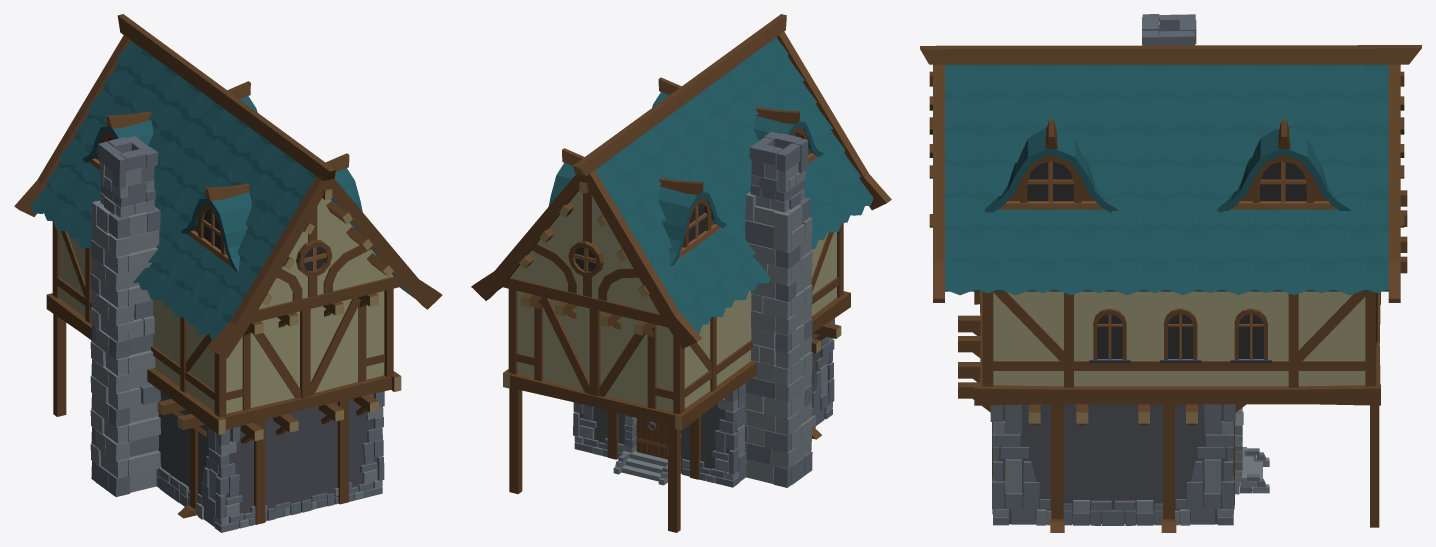
Rendered from House_2.gltf.
3 views of the same model, side by side, from view 1: azimuth 30°, elevation 25°; view 2: azimuth 150°, elevation 25°; view 3: azimuth 270°, elevation 25° (orthographic). The views are drawn at different scales.
Parts seen in each view (by area): view 1: House_2; view 2: House_2; view 3: House_2.
Part boxes in pixels (<box>): House_2: <box>14,14,442,532</box>; House_2: <box>471,14,891,532</box>; House_2: <box>920,14,1421,532</box>.
Size of the model in its own units: 2.22 by 3.25 by 3.42.
